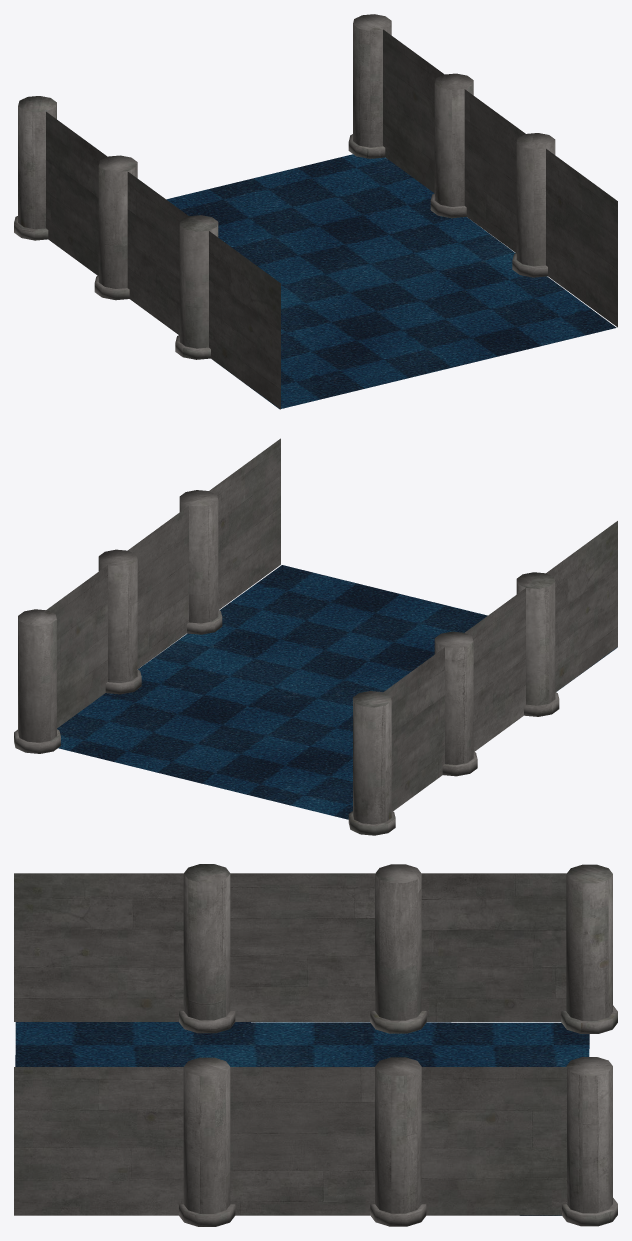
File: kaigisitu.fbx
The picture shows the model from 3 angles, top to bottom: view 1: azimuth 30°, elevation 25°; view 2: azimuth 150°, elevation 25°; view 3: azimuth 270°, elevation 25°; orthographic projection. The views are drawn at different scales.
Visible parts, largest first — view 1: Circle.010; view 2: Circle.010; view 3: Circle.010.
Part boxes in pixels (bbox=[...]): Circle.010: bbox=[14, 14, 617, 409]; Circle.010: bbox=[14, 438, 617, 835]; Circle.010: bbox=[14, 864, 617, 1226].
Size of the model in its own units: 21.91 by 7.03 by 25.86.
Materials: 2 (2 with a texture image).
